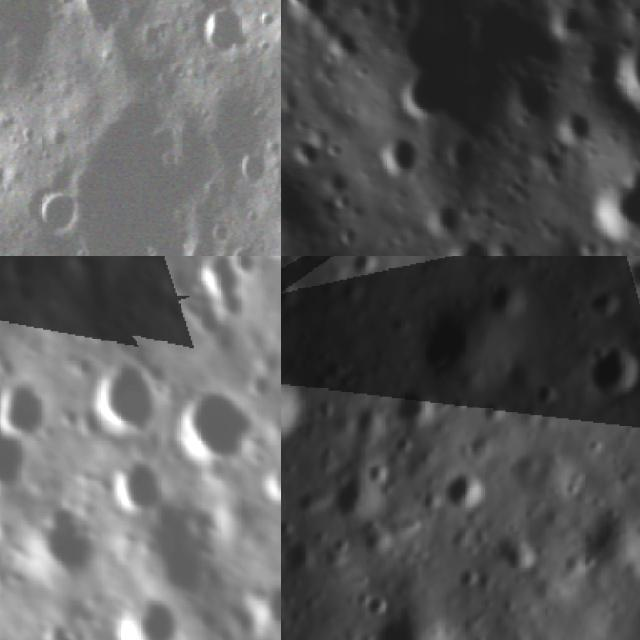crater: (387, 0, 556, 133), (406, 300, 492, 390), (83, 353, 166, 446), (174, 380, 254, 476), (15, 505, 106, 584), (281, 333, 322, 489), (566, 327, 640, 413), (431, 456, 503, 528), (318, 462, 388, 534), (0, 365, 62, 444), (376, 372, 444, 441), (582, 170, 640, 244), (354, 593, 445, 640), (108, 453, 168, 520), (190, 256, 244, 330), (112, 589, 187, 640), (473, 272, 532, 332), (0, 415, 42, 496), (28, 186, 83, 244), (195, 3, 247, 62), (375, 130, 431, 184), (396, 68, 450, 123), (577, 281, 631, 334), (607, 31, 640, 114), (281, 525, 324, 582), (356, 580, 403, 630), (446, 554, 490, 600), (289, 123, 331, 171), (577, 42, 624, 84), (253, 573, 281, 639), (73, 0, 124, 36), (422, 192, 464, 234), (322, 25, 365, 66), (228, 157, 280, 188), (546, 0, 587, 37), (445, 128, 482, 166), (442, 231, 498, 256), (258, 453, 281, 513), (552, 103, 594, 135), (319, 163, 355, 192), (290, 0, 336, 21), (377, 0, 417, 23), (228, 256, 263, 277), (577, 0, 614, 18), (331, 183, 356, 209), (255, 10, 276, 36)
